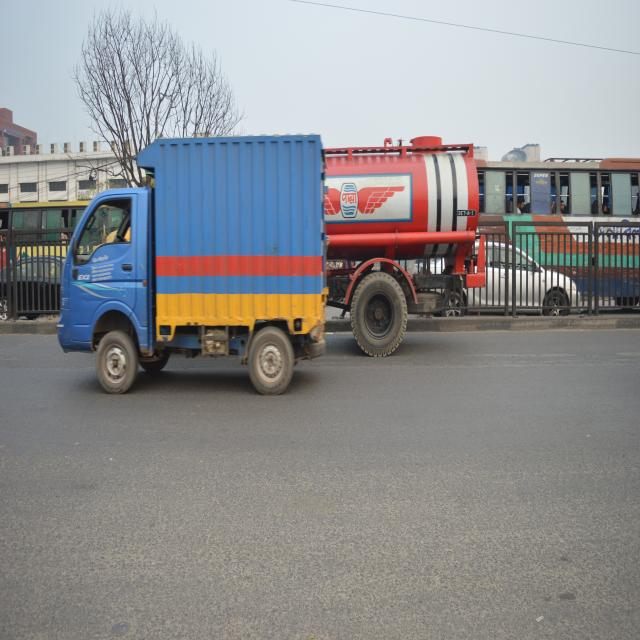bus: (481, 145, 640, 292)
car: (487, 240, 589, 326), (0, 246, 63, 330)
pickup-van: (49, 129, 346, 408)
truck: (327, 138, 480, 367)
